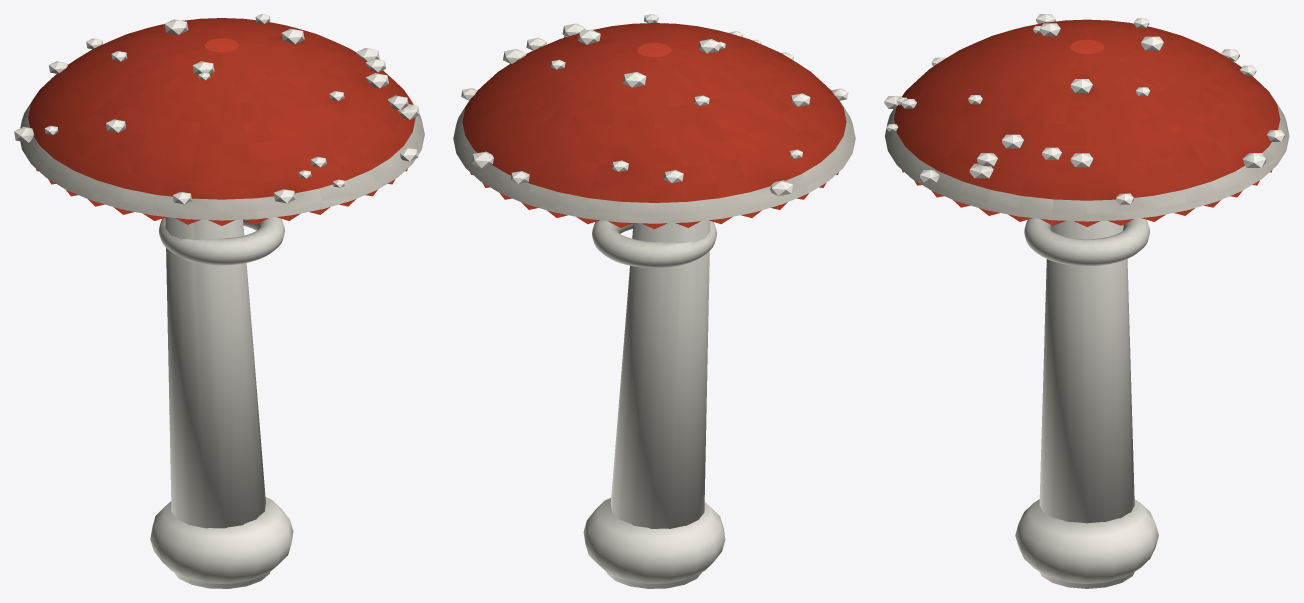
Rendered from mush_amanita.glb.
3 renders of one model, left to right at view 1: azimuth 30°, elevation 25°; view 2: azimuth 150°, elevation 25°; view 3: azimuth 270°, elevation 25°, orthographic.
Parts seen in each view (by area): view 1: mush_amanita; view 2: mush_amanita; view 3: mush_amanita.
Part boxes in pixels (<box>): mush_amanita: <box>14,14,424,588</box>; mush_amanita: <box>453,14,855,588</box>; mush_amanita: <box>884,14,1289,588</box>.
Bounding box in the file's own units: 0.09 × 0.1308 × 0.0901.
